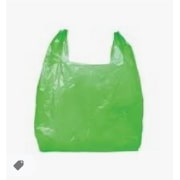kantong: (33, 29, 144, 153)
